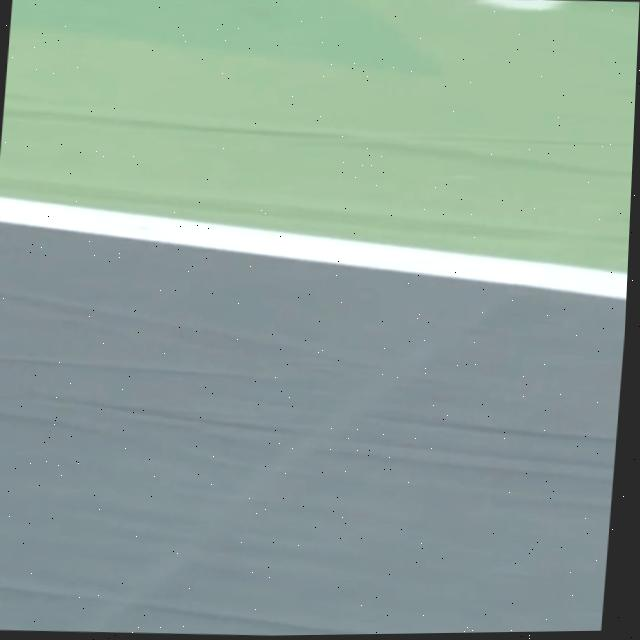right: (0, 198, 627, 300)
